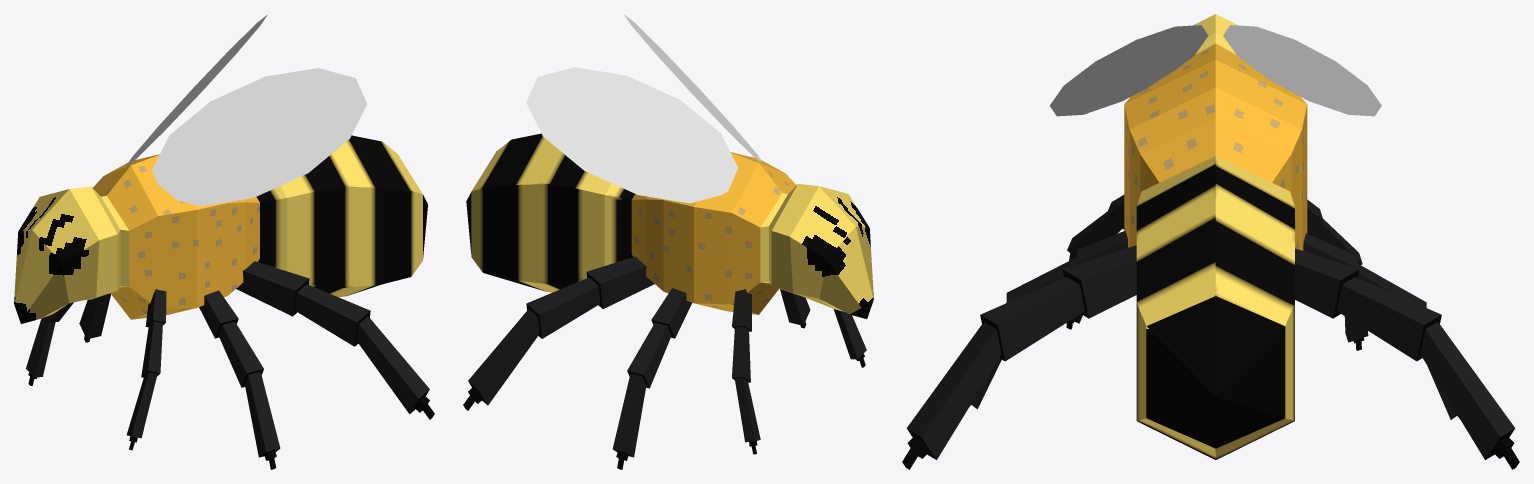
The model's file is angrybee.fbx.
3 renders of one model, left to right at view 1: azimuth 30°, elevation 25°; view 2: azimuth 150°, elevation 25°; view 3: azimuth 270°, elevation 25°, orthographic. The views are drawn at different scales.
Visible parts, largest first — view 1: cylinder_selection_selection, circle, cylinder_selection, cylinder, leg, leg_3, leg_5, circle_1, leg_4, leg_2; view 2: cylinder_selection_selection, circle_1, cylinder_selection, cylinder, leg_1, leg_2, leg_4, circle, leg_5, leg_3; view 3: cylinder_selection_selection, cylinder_selection, leg, leg_1, circle_1, circle, leg_3, leg_2, leg_5, leg_4, cylinder.
Part boxes in pixels (bbox=[...]): cylinder_selection_selection: bbox=[256, 135, 427, 297]; circle: bbox=[152, 68, 366, 206]; cylinder_selection: bbox=[93, 154, 259, 319]; cylinder: bbox=[14, 186, 129, 323]; leg: bbox=[236, 261, 434, 419]; leg_3: bbox=[199, 290, 280, 469]; leg_5: bbox=[126, 289, 166, 450]; circle_1: bbox=[126, 14, 267, 166]; leg_4: bbox=[26, 302, 73, 385]; leg_2: bbox=[79, 293, 110, 342]; cylinder_selection_selection: bbox=[466, 133, 634, 292]; circle_1: bbox=[526, 67, 738, 203]; cylinder_selection: bbox=[631, 152, 796, 314]; cylinder: bbox=[760, 184, 873, 319]; leg_1: bbox=[463, 256, 654, 410]; leg_2: bbox=[612, 288, 691, 469]; leg_4: bbox=[732, 289, 760, 454]; circle: bbox=[624, 14, 761, 161]; leg_5: bbox=[833, 309, 866, 367]; leg_3: bbox=[780, 289, 810, 328]; cylinder_selection_selection: bbox=[1136, 156, 1294, 459]; cylinder_selection: bbox=[1124, 43, 1307, 250]; leg: bbox=[902, 245, 1136, 469]; leg_1: bbox=[1295, 248, 1519, 469]; circle_1: bbox=[1223, 25, 1381, 116]; circle: bbox=[1049, 25, 1208, 116]; leg_3: bbox=[969, 230, 1128, 409]; leg_2: bbox=[1303, 233, 1459, 419]; leg_5: bbox=[1066, 195, 1124, 329]; leg_4: bbox=[1307, 199, 1368, 350]; cylinder: bbox=[1193, 14, 1238, 54].
Size of the model in its own units: 426 by 331 by 401.
4 materials, 4 textured.
